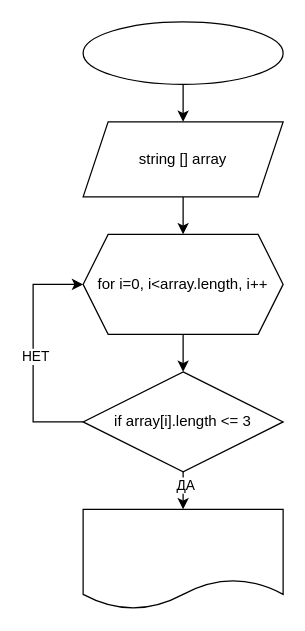
Some shapes in this 305 by 631 pixel diagram are drawn without their labels. Here are the shapes that lost their labels. From the top down, the centre of each, then its label:
At pixel 182 52: "Start".
At pixel 182 558: "Console.WriteLine(array[i])".
